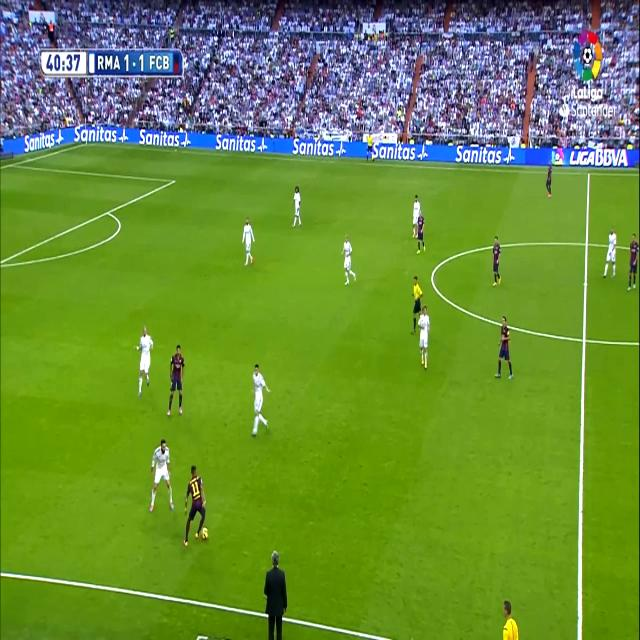bigarea_bottom_outter: (104, 204, 112, 218)
halfcircle_bottom: (578, 325, 590, 353)
halfcircle_top: (582, 232, 592, 254)
midline_top_intersection: (585, 167, 593, 181)
